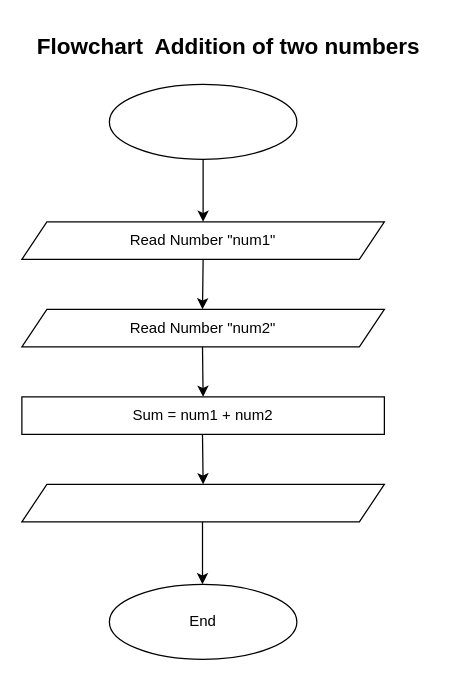
Image size: 456x681. Some labels were removed from this diagram. The box of each missing label's shape, as (x1, y1, x2, y2) in pixels:
Print sum: (21, 483, 384, 522)
Start: (108, 83, 297, 159)
